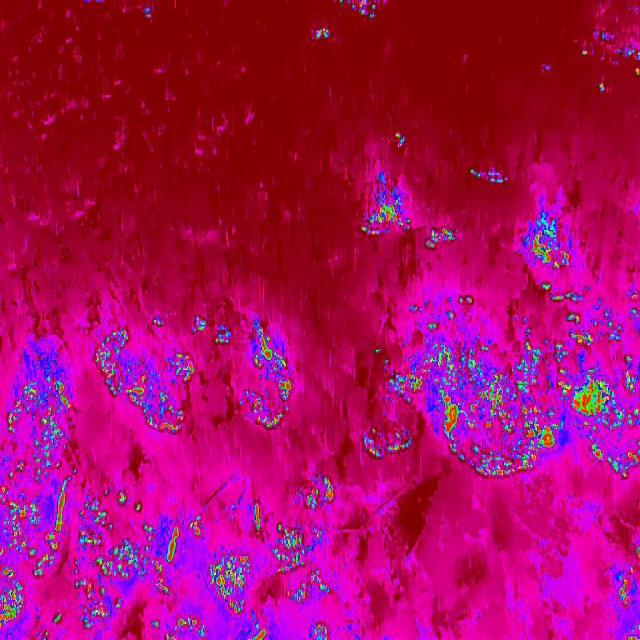fire: (360, 279, 640, 479), (76, 472, 351, 640), (91, 313, 296, 445), (0, 374, 78, 638), (462, 163, 582, 283), (360, 164, 458, 253), (542, 22, 640, 108), (312, 0, 383, 42), (609, 550, 640, 608), (383, 126, 410, 153)
